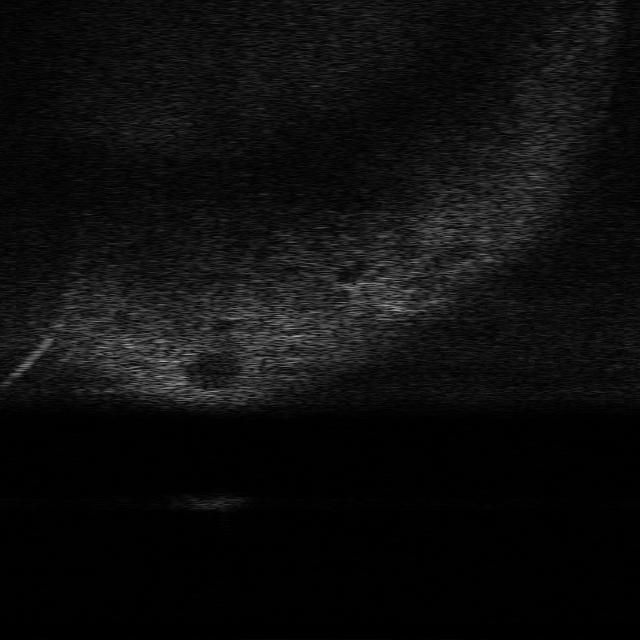cube: (182, 493, 248, 511)
